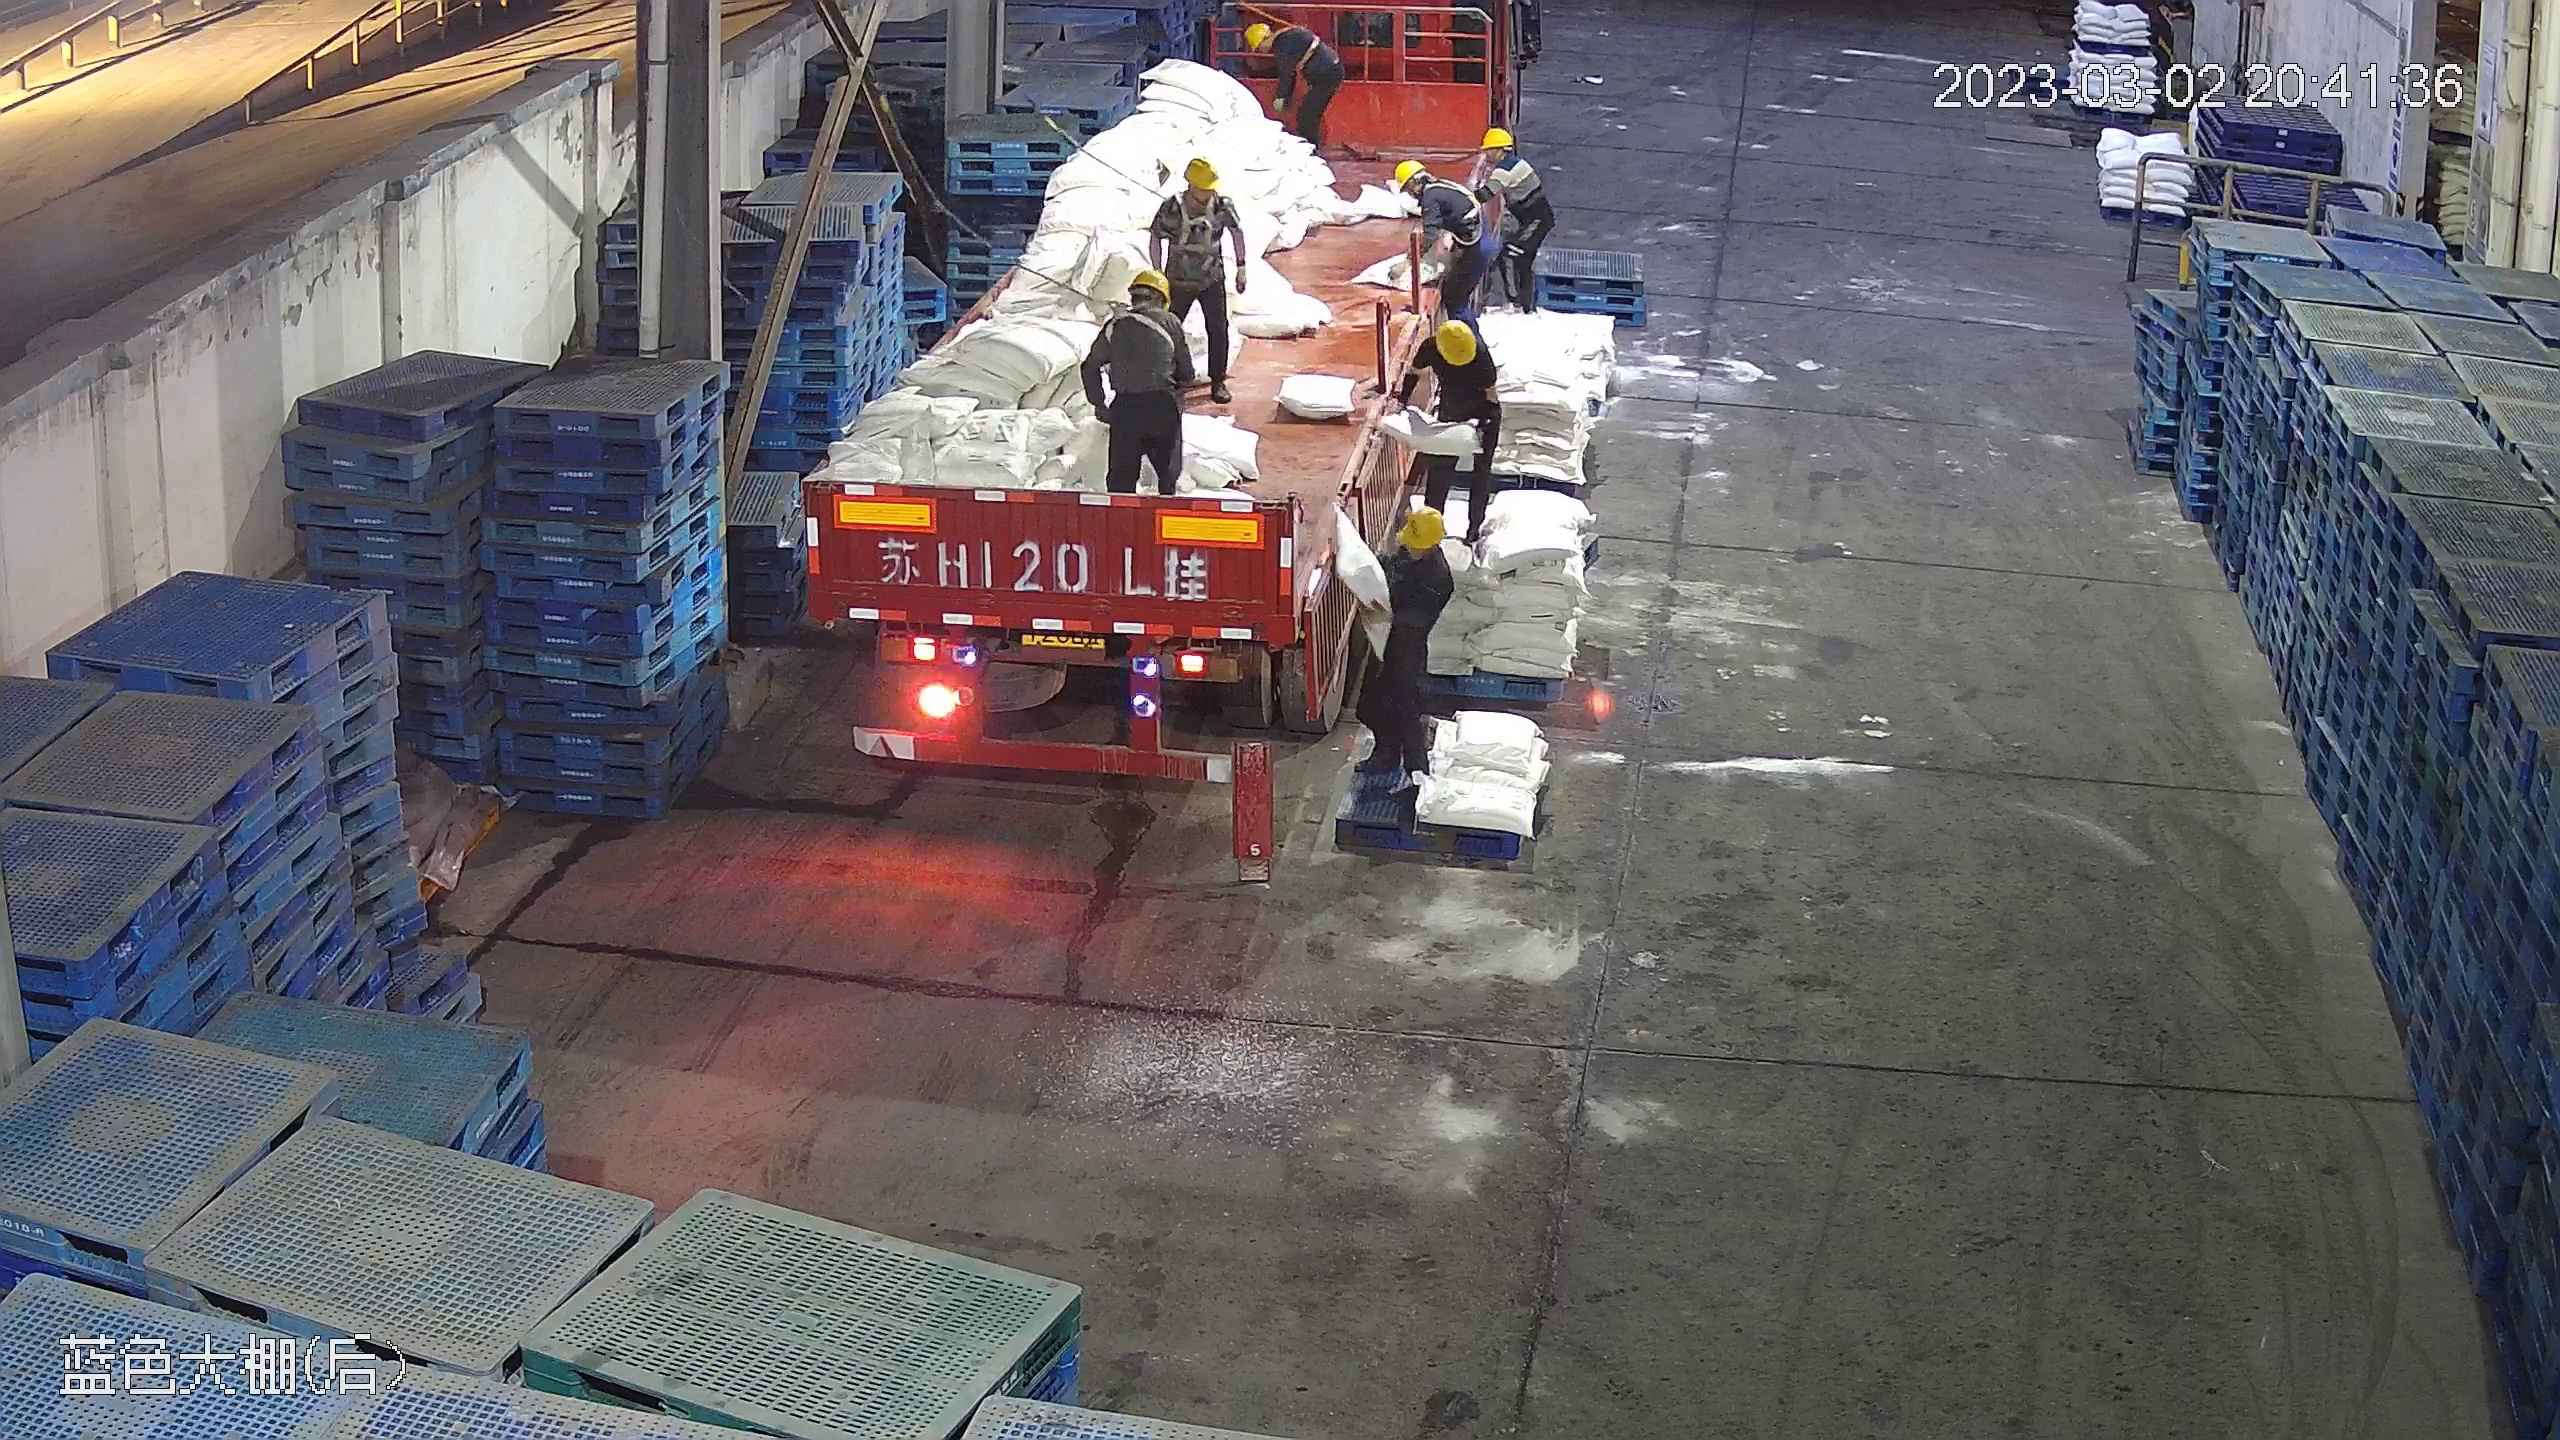belt: (1117, 311, 1190, 379), (1416, 162, 1475, 228), (1168, 191, 1224, 250), (1275, 21, 1327, 69)
head: (1470, 122, 1548, 319), (1097, 268, 1187, 351), (1381, 503, 1458, 600), (1156, 153, 1238, 223), (1412, 316, 1494, 381), (1473, 123, 1538, 191), (1392, 155, 1464, 216), (1247, 20, 1306, 66)
helmet: (1430, 316, 1481, 368), (1395, 503, 1448, 549), (1182, 153, 1223, 190), (1124, 265, 1167, 301), (1480, 124, 1517, 152), (1392, 158, 1421, 184), (1247, 19, 1272, 48)
people: (1347, 502, 1461, 805), (1084, 261, 1197, 499), (1148, 153, 1246, 411), (1394, 315, 1500, 543), (1393, 149, 1495, 325), (1469, 120, 1550, 324), (1247, 15, 1349, 159)
truck: (795, 1, 1532, 787)
